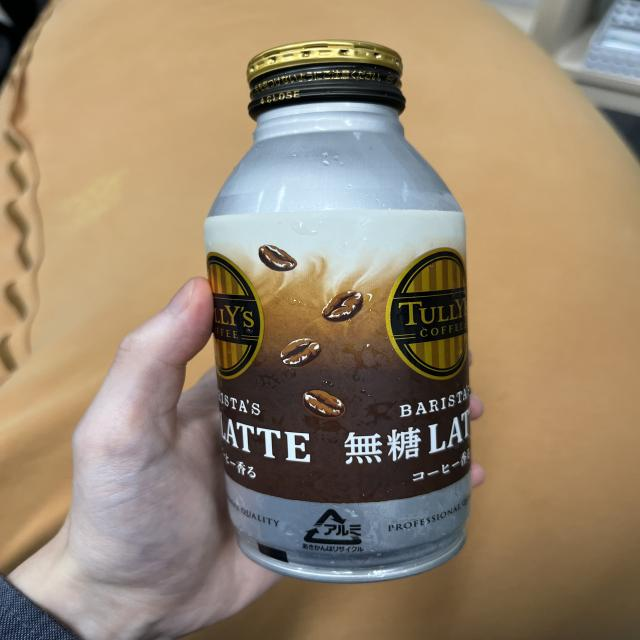coffee-latte: (203, 41, 472, 578)
